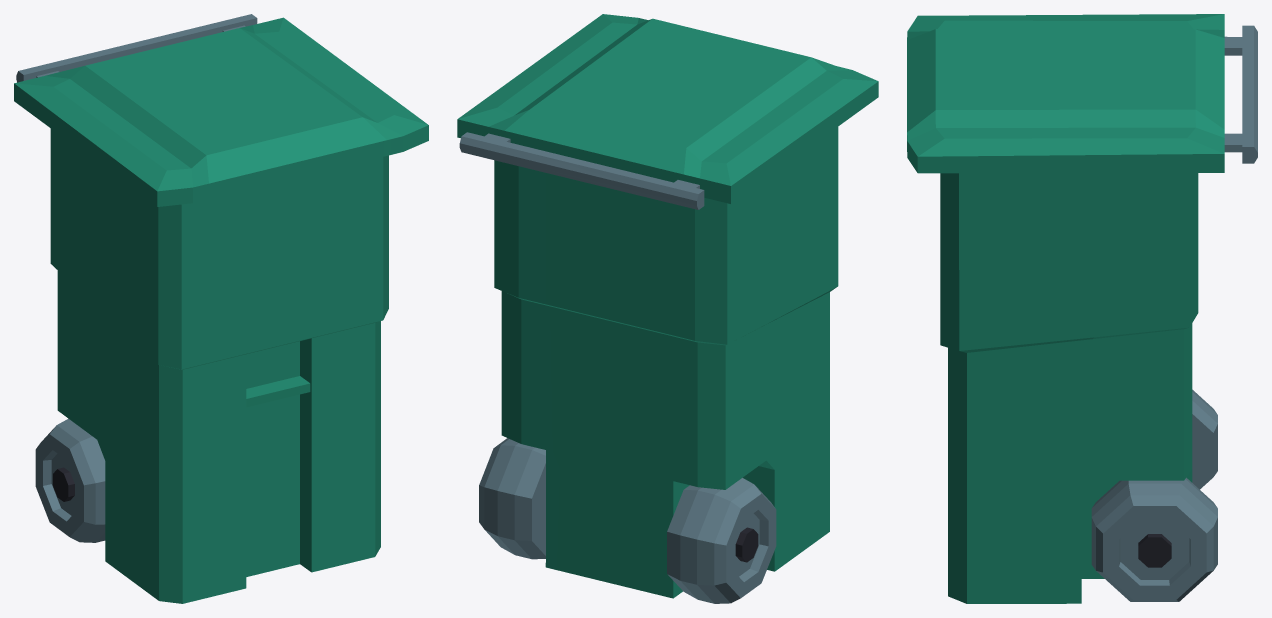
The model's file is Prop_GarbargeCollector_Small.fbx.
3 renders of one model, left to right at view 1: azimuth 30°, elevation 25°; view 2: azimuth 150°, elevation 25°; view 3: azimuth 270°, elevation 25°, orthographic. The views are drawn at different scales.
Visible parts, largest first — view 1: Prop_GarbargeCollector_Small; view 2: Prop_GarbargeCollector_Small; view 3: Prop_GarbargeCollector_Small.
Part boxes in pixels (x1,y1,x2,y2): Prop_GarbargeCollector_Small: [14, 14, 428, 603]; Prop_GarbargeCollector_Small: [457, 14, 878, 603]; Prop_GarbargeCollector_Small: [907, 14, 1257, 603].
Size of the model in its own units: 79 by 75.11 by 119.
